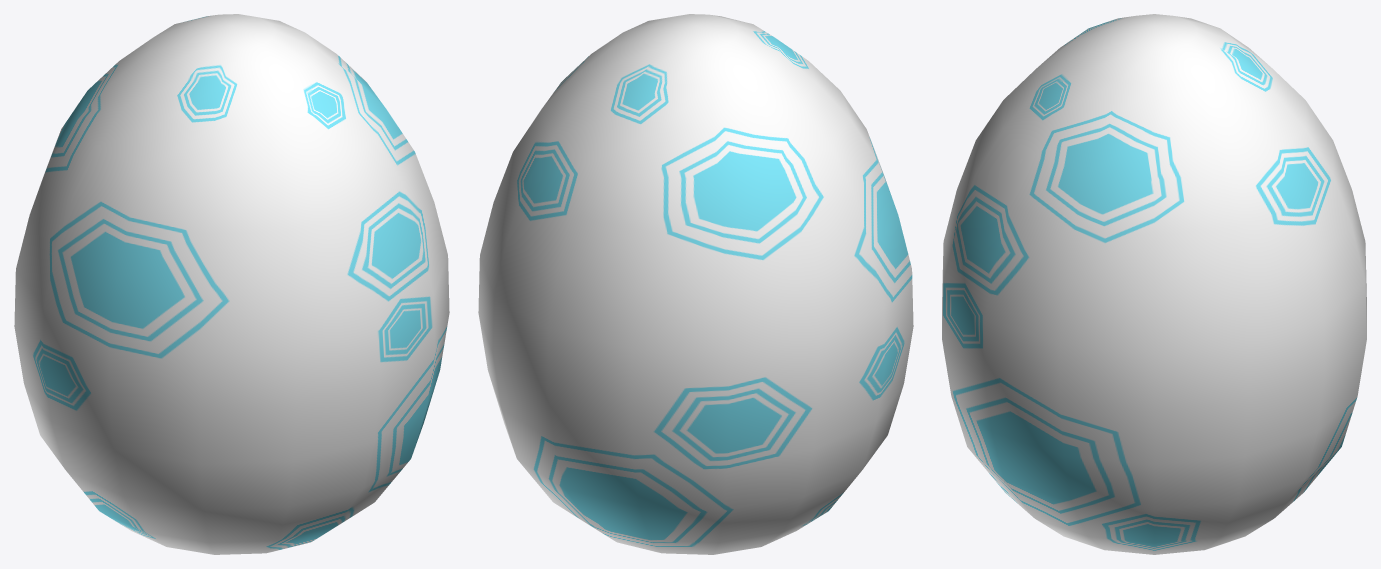
The model's file is mizuiro.fbx.
3 renders of one model, left to right at view 1: azimuth 30°, elevation 25°; view 2: azimuth 150°, elevation 25°; view 3: azimuth 270°, elevation 25°, orthographic.
Visible parts, largest first — view 1: pSphere1; view 2: pSphere1; view 3: pSphere1.
Part boxes in pixels (x1=…): pSphere1: x1=14, y1=14, x2=449, y2=554; pSphere1: x1=478, y1=14, x2=913, y2=554; pSphere1: x1=942, y1=14, x2=1366, y2=554.
Size of the model in its own units: 3.58 by 4.57 by 3.49.
Materials: 1 (1 with a texture image).
